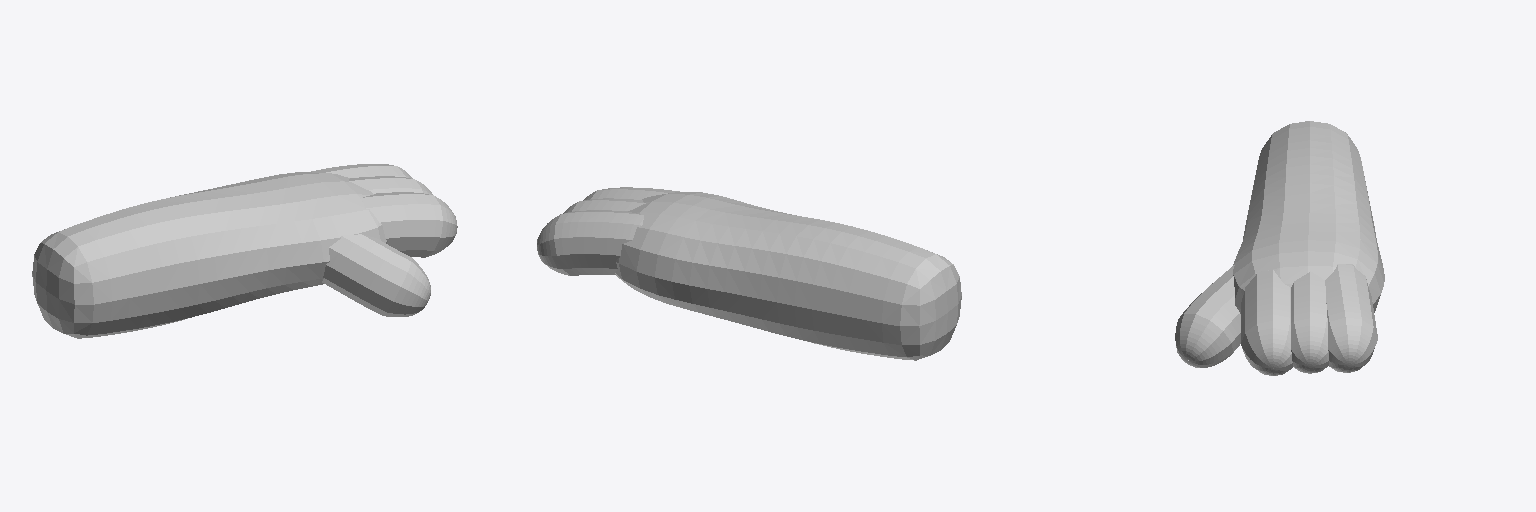
File: manita der corderol.obj
3 renders of one model, left to right at view 1: azimuth 30°, elevation 25°; view 2: azimuth 150°, elevation 25°; view 3: azimuth 270°, elevation 25°, orthographic.
Parts seen in each view (by area): view 1: Object002; view 2: Object002; view 3: Object002.
Part boxes in pixels (left/top/right/bottom): Object002: left=32, top=164, right=457, bottom=338; Object002: left=537, top=187, right=961, bottom=360; Object002: left=1175, top=121, right=1384, bottom=375.
Size of the model in its own units: 9.59 by 2.68 by 4.47.